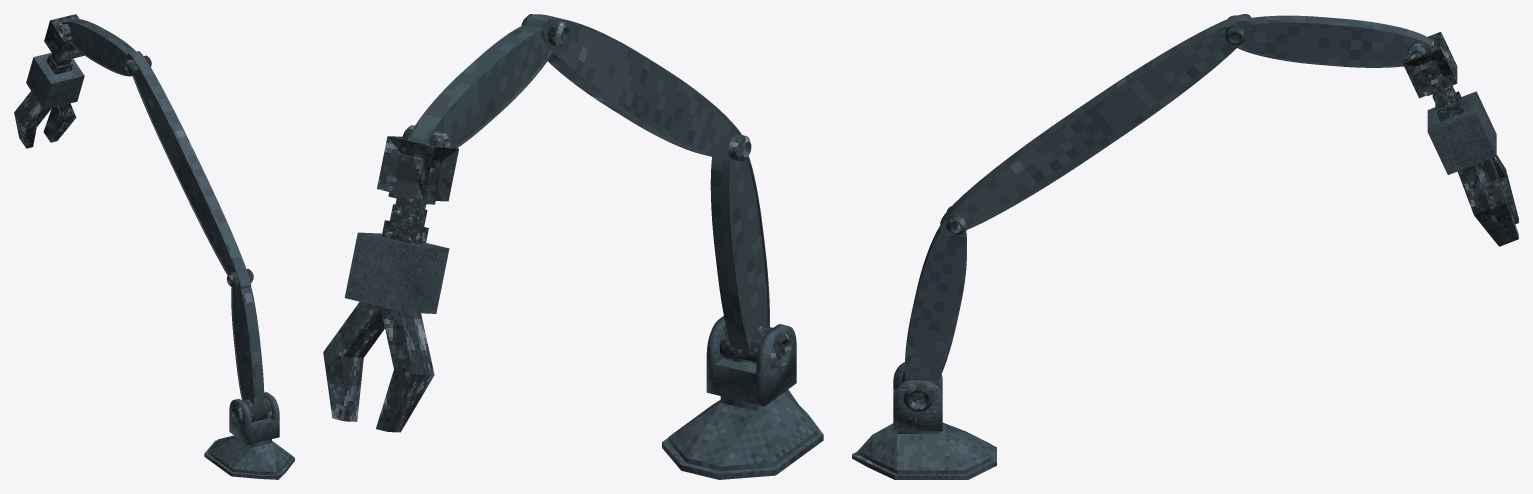
File: ClawArm.fbx
3 renders of one model, left to right at view 1: azimuth 30°, elevation 25°; view 2: azimuth 150°, elevation 25°; view 3: azimuth 270°, elevation 25°, orthographic. The views are drawn at different scales.
Parts seen in each view (by area): view 1: ClawArm; view 2: ClawArm; view 3: ClawArm.
Part boxes in pixels (bbox=[...]): ClawArm: bbox=[14, 14, 294, 479]; ClawArm: bbox=[323, 14, 823, 479]; ClawArm: bbox=[852, 14, 1518, 479].
Size of the model in its own units: 445 by 2951 by 2154.
Materials: 3 (3 with a texture image).
